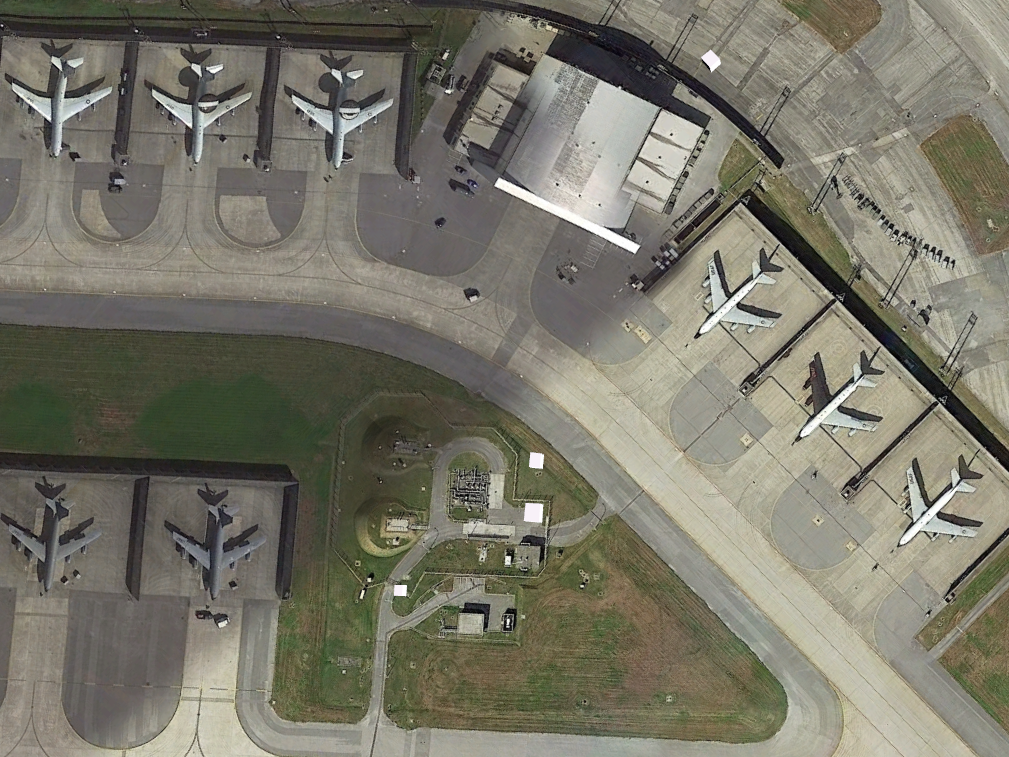A11: (9, 45, 116, 160), (785, 349, 889, 449), (888, 456, 990, 553), (687, 254, 790, 350)
A14: (4, 482, 106, 595), (167, 492, 270, 603)
A7: (143, 56, 254, 170), (285, 58, 396, 172)
